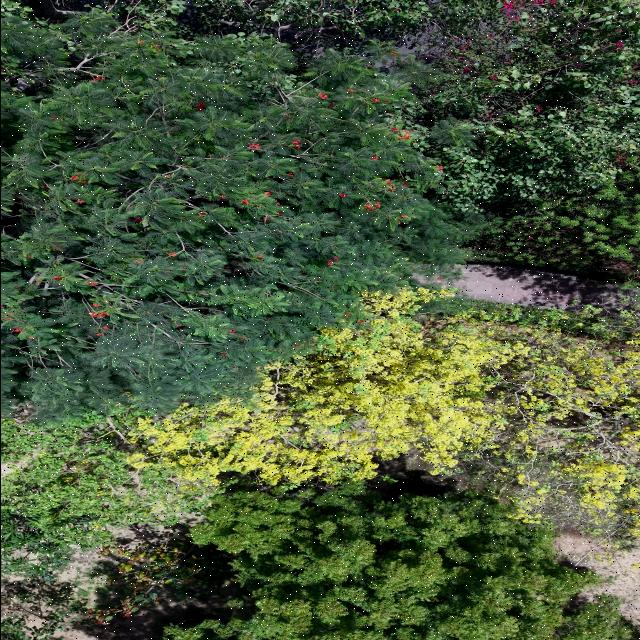DRY_AREA: (49, 575, 241, 639), (52, 579, 240, 639), (55, 579, 239, 639), (56, 579, 239, 639), (55, 580, 239, 639), (56, 580, 239, 639), (415, 263, 639, 310), (448, 264, 635, 309), (554, 529, 639, 628), (554, 532, 639, 627), (1, 463, 15, 476)
PATHWAYS: (415, 264, 630, 308)
VEGETATION_TREE: (1, 0, 639, 639), (3, 2, 638, 420), (1, 9, 469, 421), (4, 289, 637, 570), (170, 0, 639, 279), (130, 288, 639, 542), (181, 0, 639, 280), (75, 483, 635, 639), (88, 484, 638, 639), (166, 487, 594, 639), (417, 0, 639, 279), (420, 297, 639, 549), (418, 1, 638, 211), (1, 414, 198, 576), (466, 168, 639, 280), (77, 530, 249, 626), (181, 0, 440, 44), (87, 537, 201, 623), (1, 578, 83, 639), (549, 595, 638, 639), (555, 595, 639, 639), (1, 617, 52, 639)
